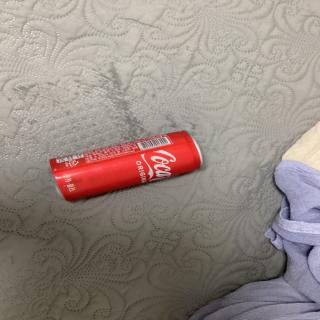cocacola: (44, 128, 209, 206)
